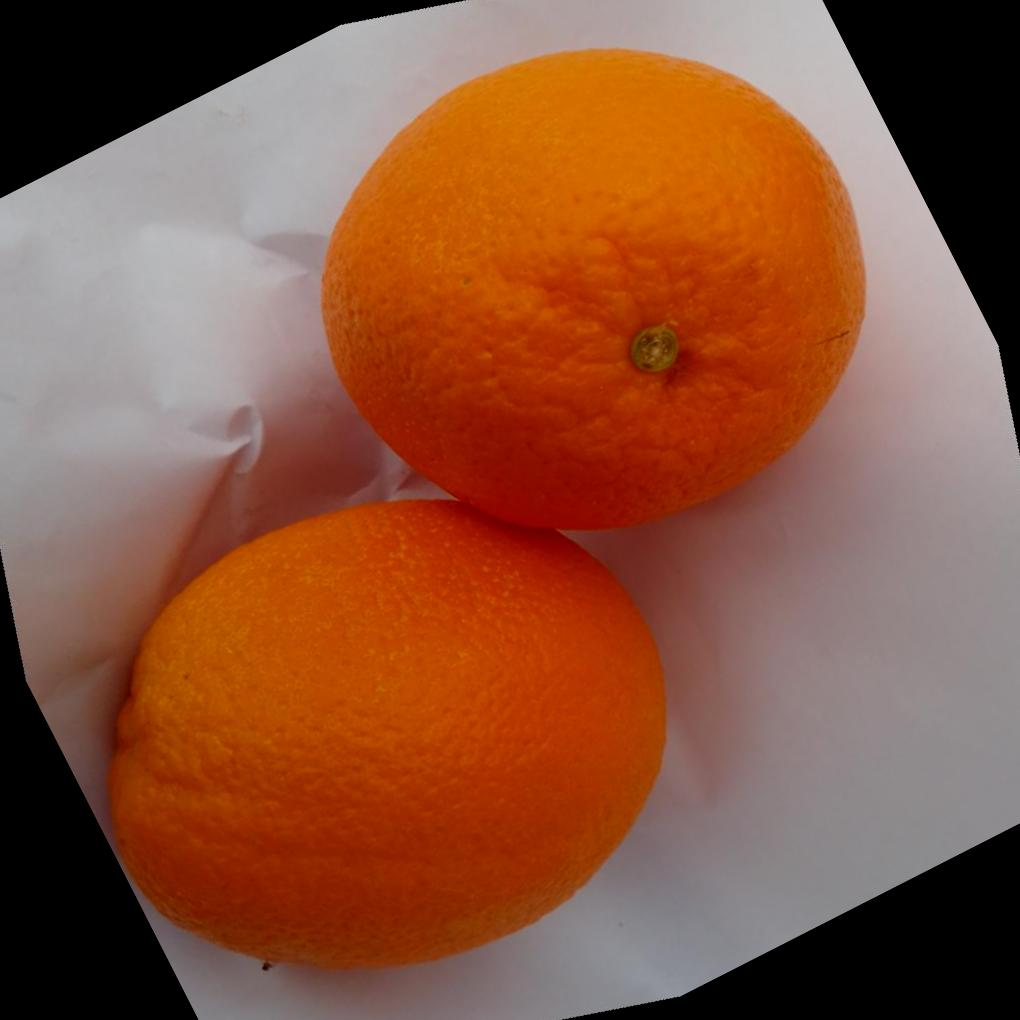FreshGuava: (102, 47, 865, 974)
